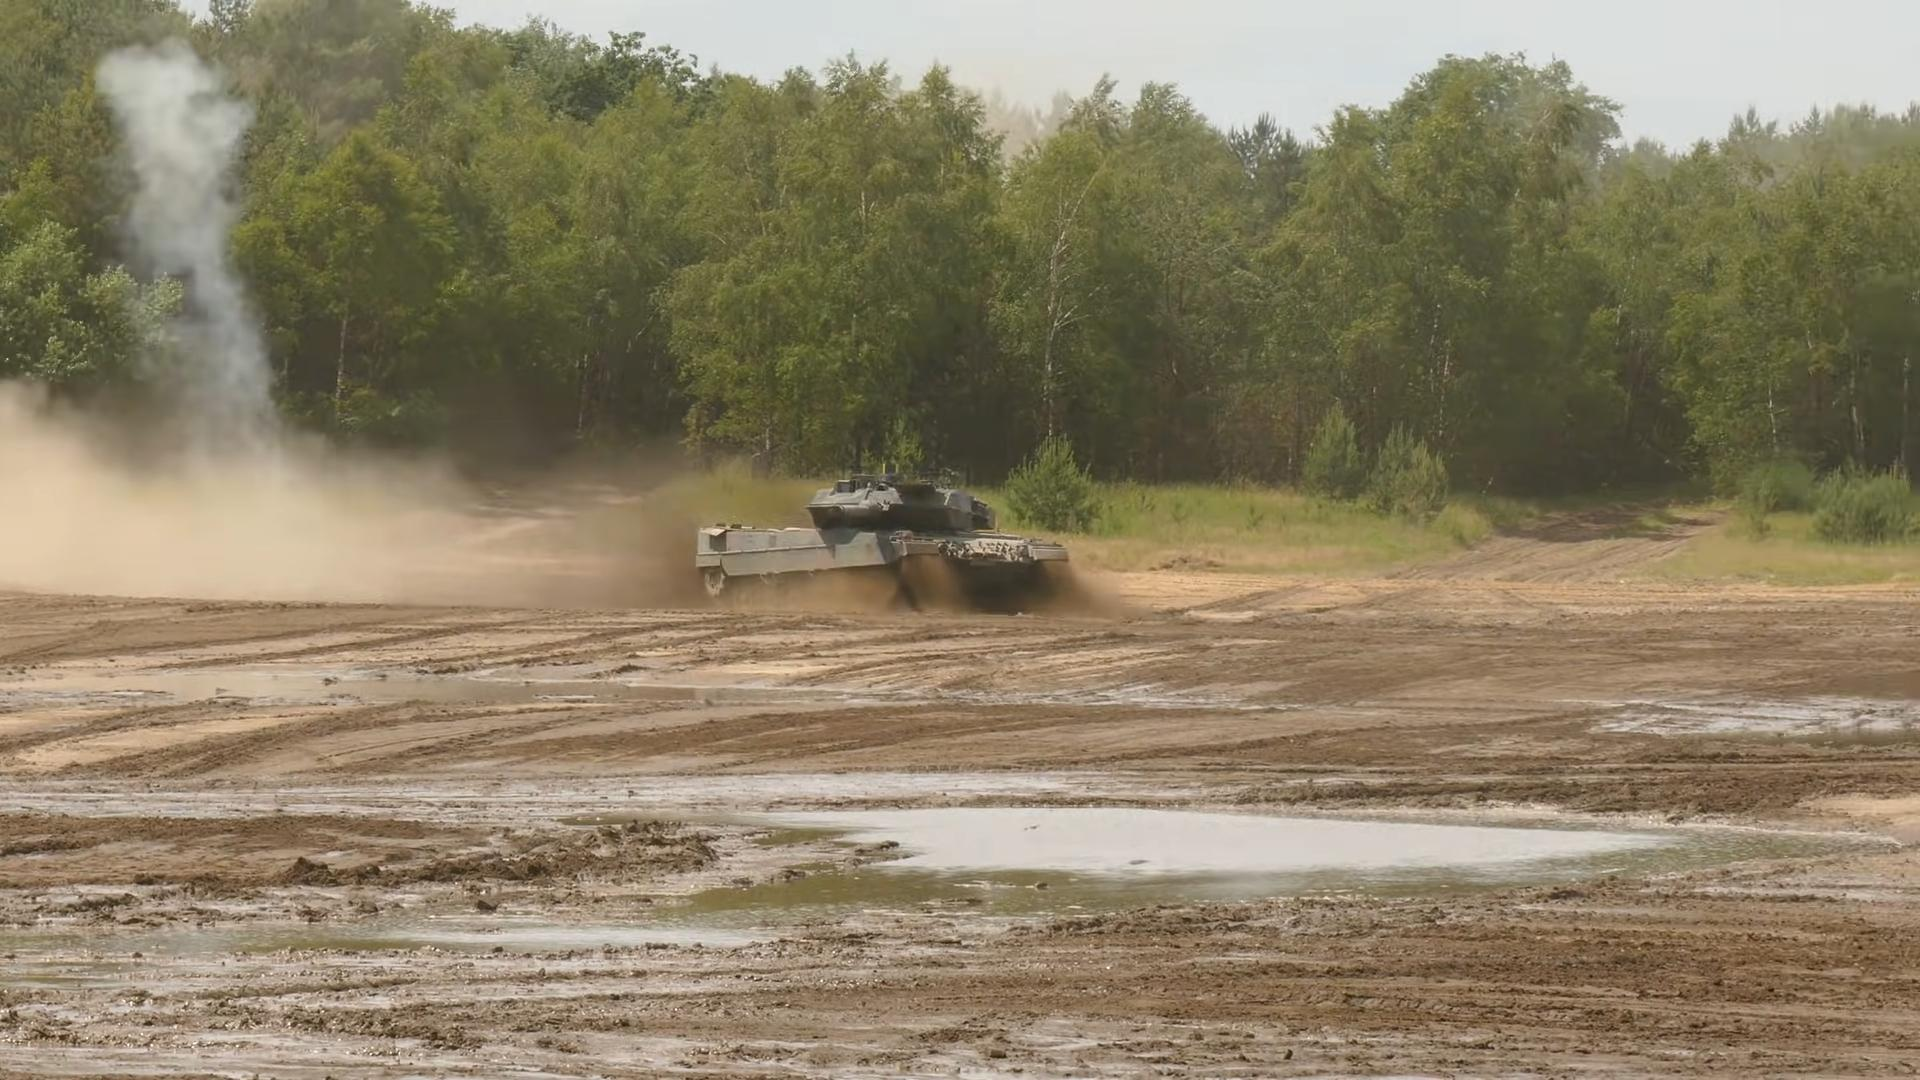tank: (696, 468, 1069, 612)
